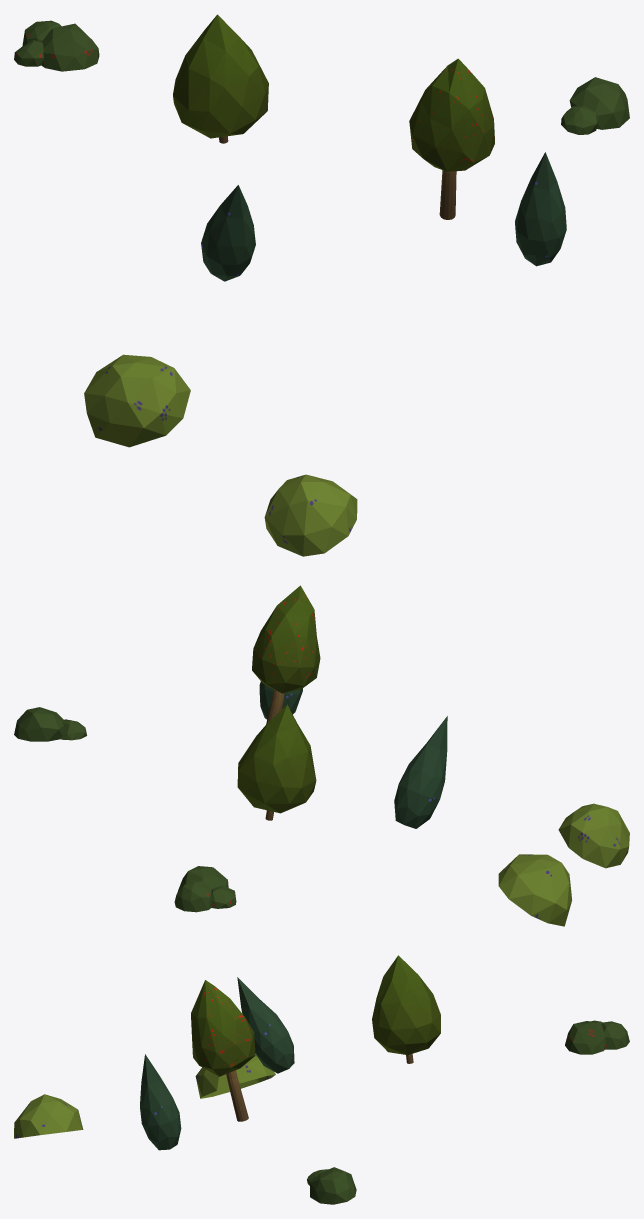
File: Bushes17.gltf
3 renders of one model, top to bottom at view 1: azimuth 30°, elevation 25°; view 2: azimuth 150°, elevation 25°; view 3: azimuth 270°, elevation 25°, orthographic. The views are drawn at different scales.
Visible parts, largest first — view 1: Hollytree2 - copy.019, Hollytree1 - copy.026, ElderberryBush2 - copy.022, ElderberryBush2 - copy.002, JuniperBush2 - copy.021, JuniperBush2 - copy.001, StrawberryBush3 - copy.014, StrawberryBush1 - copy.024; view 2: Hollytree2 - copy.019, Hollytree1 - copy.026, ElderberryBush2 - copy.022, JuniperBush2 - copy.001, ElderberryBush2 - copy.002, StrawberryBush3 - copy.014, StrawberryBush1 - copy.024, JuniperBush2 - copy.021; view 3: Hollytree1 - copy.026, Hollytree2 - copy.019, JuniperBush2 - copy.001, JuniperBush2 - copy.021, ElderberryBush2 - copy.002, StrawberryBush3 - copy.014, ElderberryBush2 - copy.022, StrawberryBush1 - copy.024.
Boxes of the visible parts, x1,y1,x2,y2 form: Hollytree2 - copy.019: (173, 14, 268, 143); Hollytree1 - copy.026: (409, 58, 494, 219); ElderberryBush2 - copy.022: (84, 354, 190, 447); ElderberryBush2 - copy.002: (264, 474, 357, 556); JuniperBush2 - copy.021: (515, 152, 566, 266); JuniperBush2 - copy.001: (201, 185, 255, 281); StrawberryBush3 - copy.014: (14, 20, 99, 71); StrawberryBush1 - copy.024: (561, 77, 629, 134); Hollytree2 - copy.019: (237, 704, 316, 820); Hollytree1 - copy.026: (252, 585, 320, 724); ElderberryBush2 - copy.022: (498, 854, 571, 926); JuniperBush2 - copy.001: (394, 716, 447, 828); ElderberryBush2 - copy.002: (558, 803, 629, 868); StrawberryBush3 - copy.014: (174, 866, 236, 912); StrawberryBush1 - copy.024: (14, 707, 86, 741); JuniperBush2 - copy.021: (259, 681, 302, 719); Hollytree1 - copy.026: (191, 980, 255, 1121); Hollytree2 - copy.019: (372, 955, 440, 1063); JuniperBush2 - copy.001: (237, 977, 294, 1073); JuniperBush2 - copy.021: (140, 1054, 181, 1150); ElderberryBush2 - copy.002: (14, 1094, 83, 1138); StrawberryBush3 - copy.014: (565, 1020, 629, 1054); ElderberryBush2 - copy.022: (195, 1055, 275, 1098); StrawberryBush1 - copy.024: (307, 1167, 356, 1204).
Bounding box in the file's own units: 14.27 × 7.78 × 16.83.
Materials: 6 (6 with a texture image).
